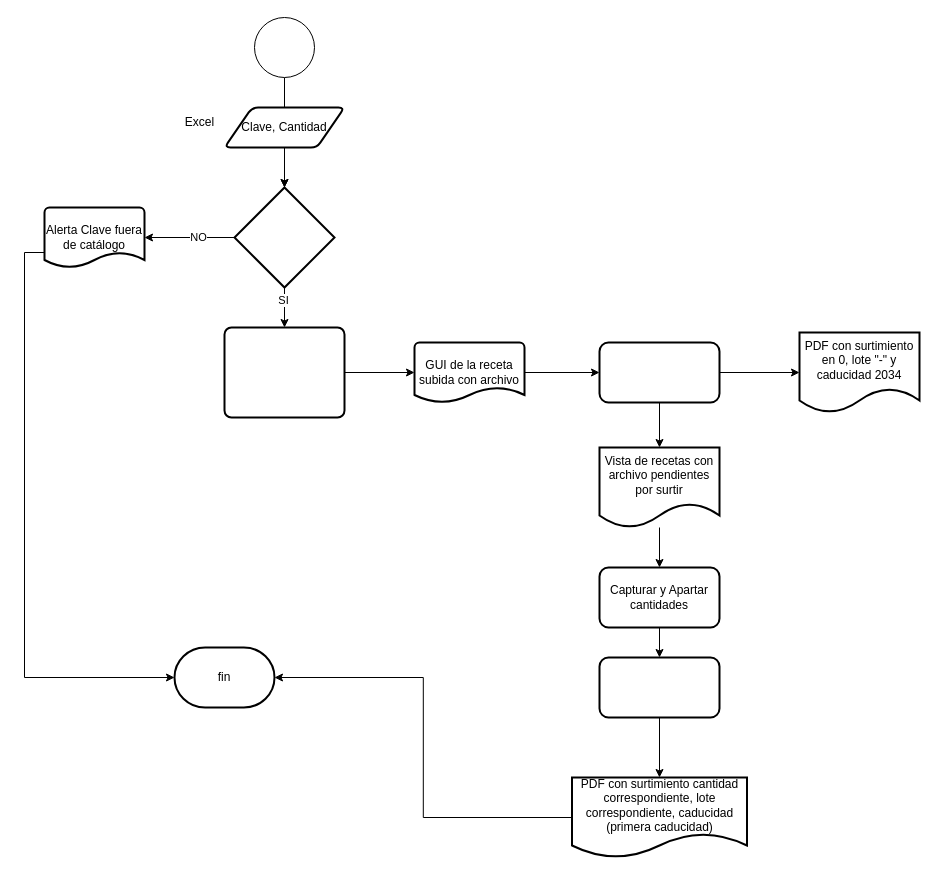
Some shapes in this 938 by 876 pixel diagram are drawn without their labels. Here are the shapes that lost their labels. From the top down, the centre of each, then its label:
At (x=284, y=237): "Existe clave".
At (x=284, y=372): "Registrar receta como pendiente con claves y cantidades solicitada y existencias".
At (x=659, y=372): "Guardar receta como pendiente".
At (x=659, y=687): "Surtir(descontar en inventario y surtir en kardex)".
